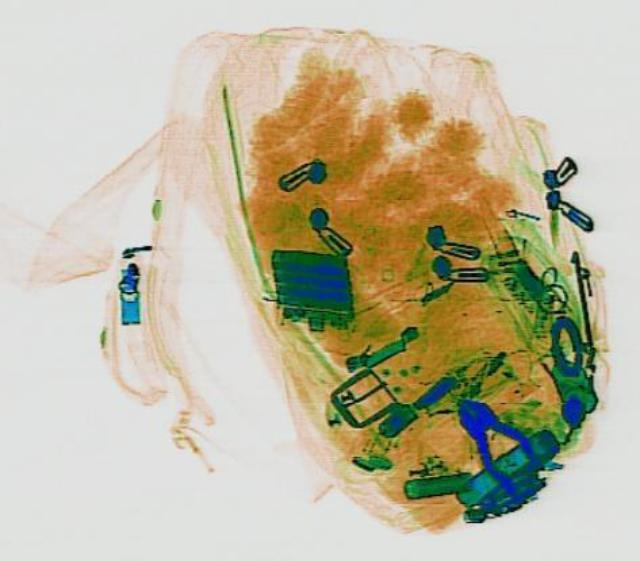Pliers: (432, 387, 562, 506)
